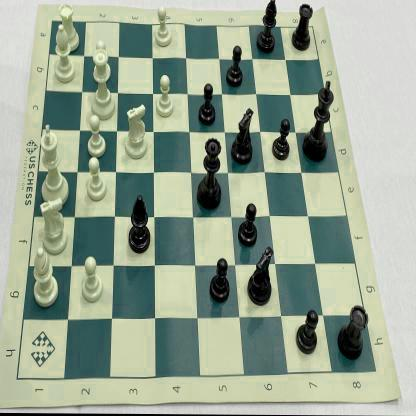black-bishop: (126, 192, 152, 256), (256, 0, 280, 57)
black-king: (300, 79, 335, 164)
black-knight: (247, 242, 276, 310), (230, 104, 254, 168)
black-pawn: (294, 305, 322, 359), (207, 254, 232, 304), (269, 114, 292, 164), (236, 202, 260, 249), (196, 80, 217, 131), (224, 43, 244, 90)
black-queen: (196, 133, 224, 214)
black-rook: (336, 302, 370, 362), (290, 0, 315, 55)
white-bishop: (30, 246, 60, 308), (52, 24, 77, 86)
white-king: (38, 121, 70, 207)
white-knight: (38, 196, 69, 258), (122, 103, 148, 164)
white-pawn: (80, 255, 105, 306), (83, 156, 107, 204), (152, 5, 174, 50), (91, 39, 113, 83), (86, 114, 107, 160), (155, 74, 175, 122)
white-queen: (86, 50, 118, 121)
white-rook: (56, 0, 82, 54)
